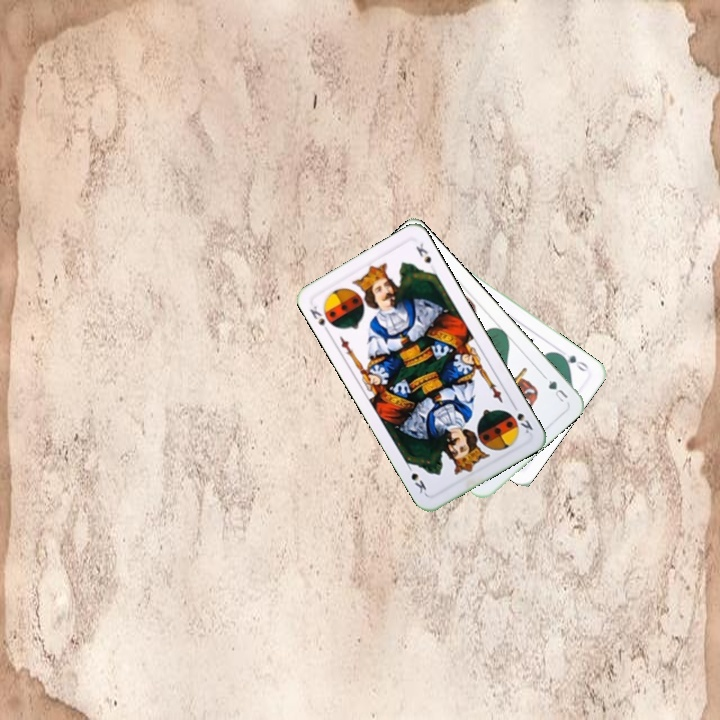GO: (554, 349, 591, 375)
GU: (544, 376, 570, 406)
SK: (508, 399, 536, 436), (306, 302, 333, 336)
